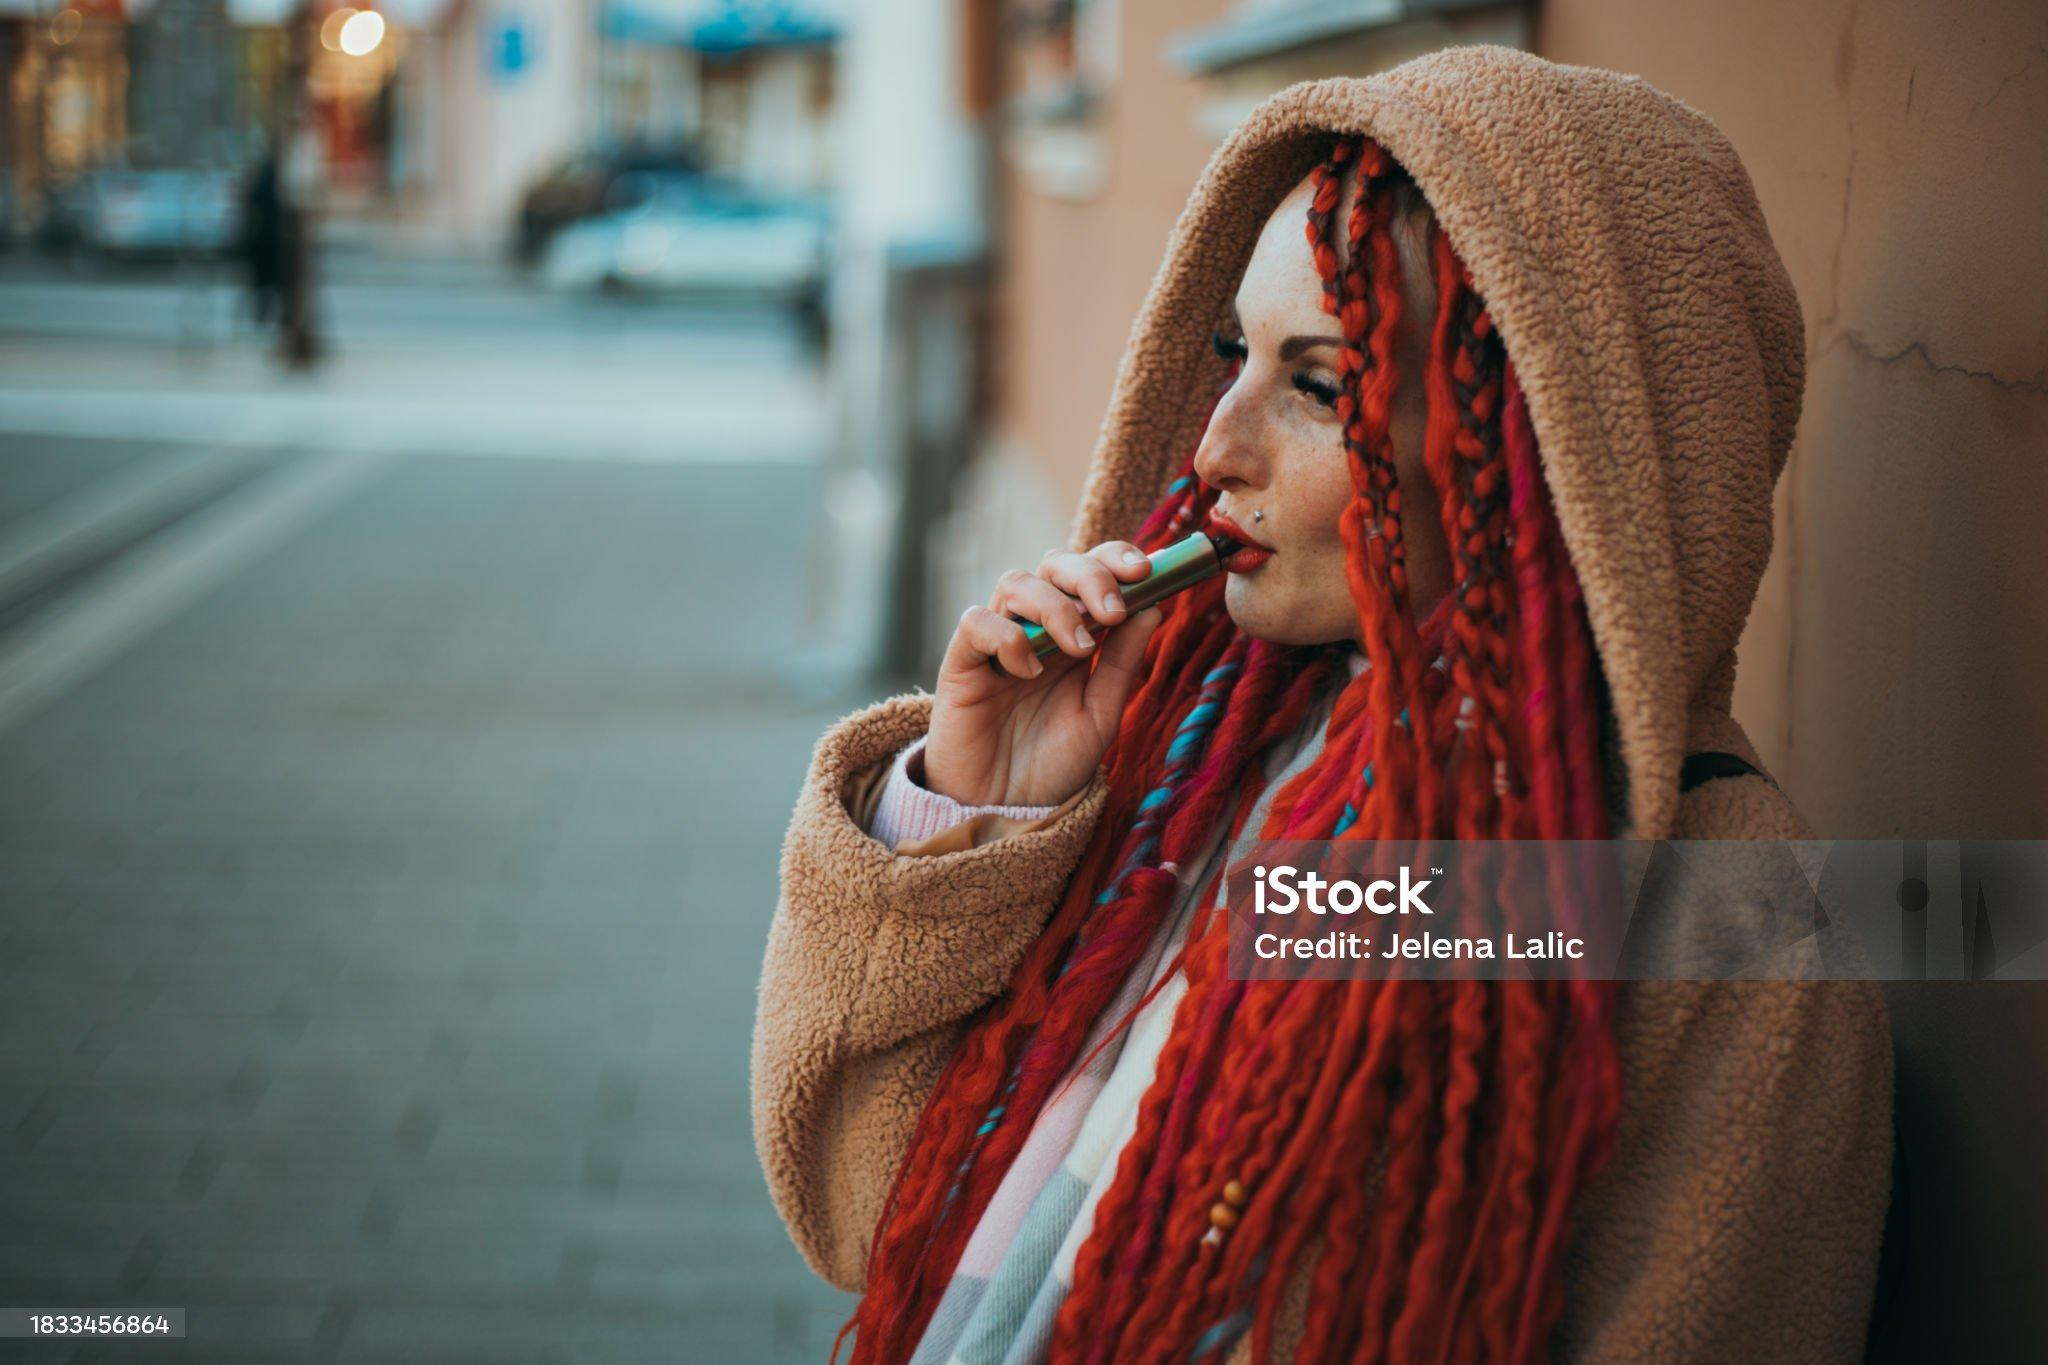Vape: (988, 530, 1246, 679)
